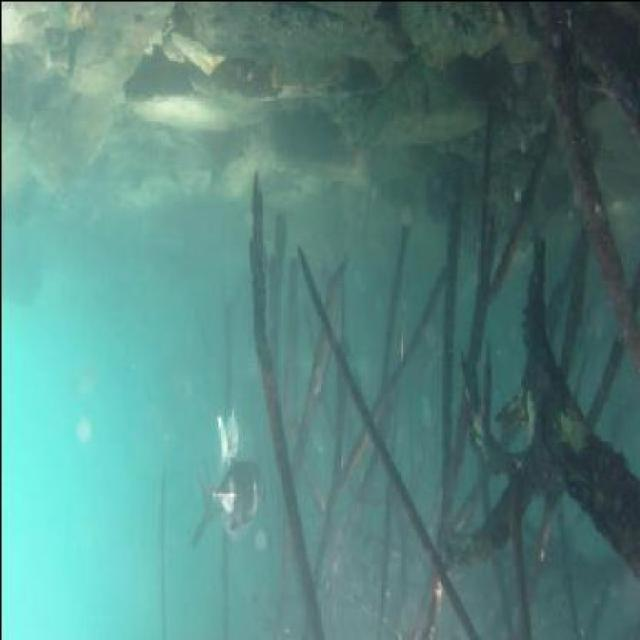Caranx_sexfasciatus_juvenile: (205, 452, 261, 536), (184, 462, 236, 546), (212, 396, 246, 467)
